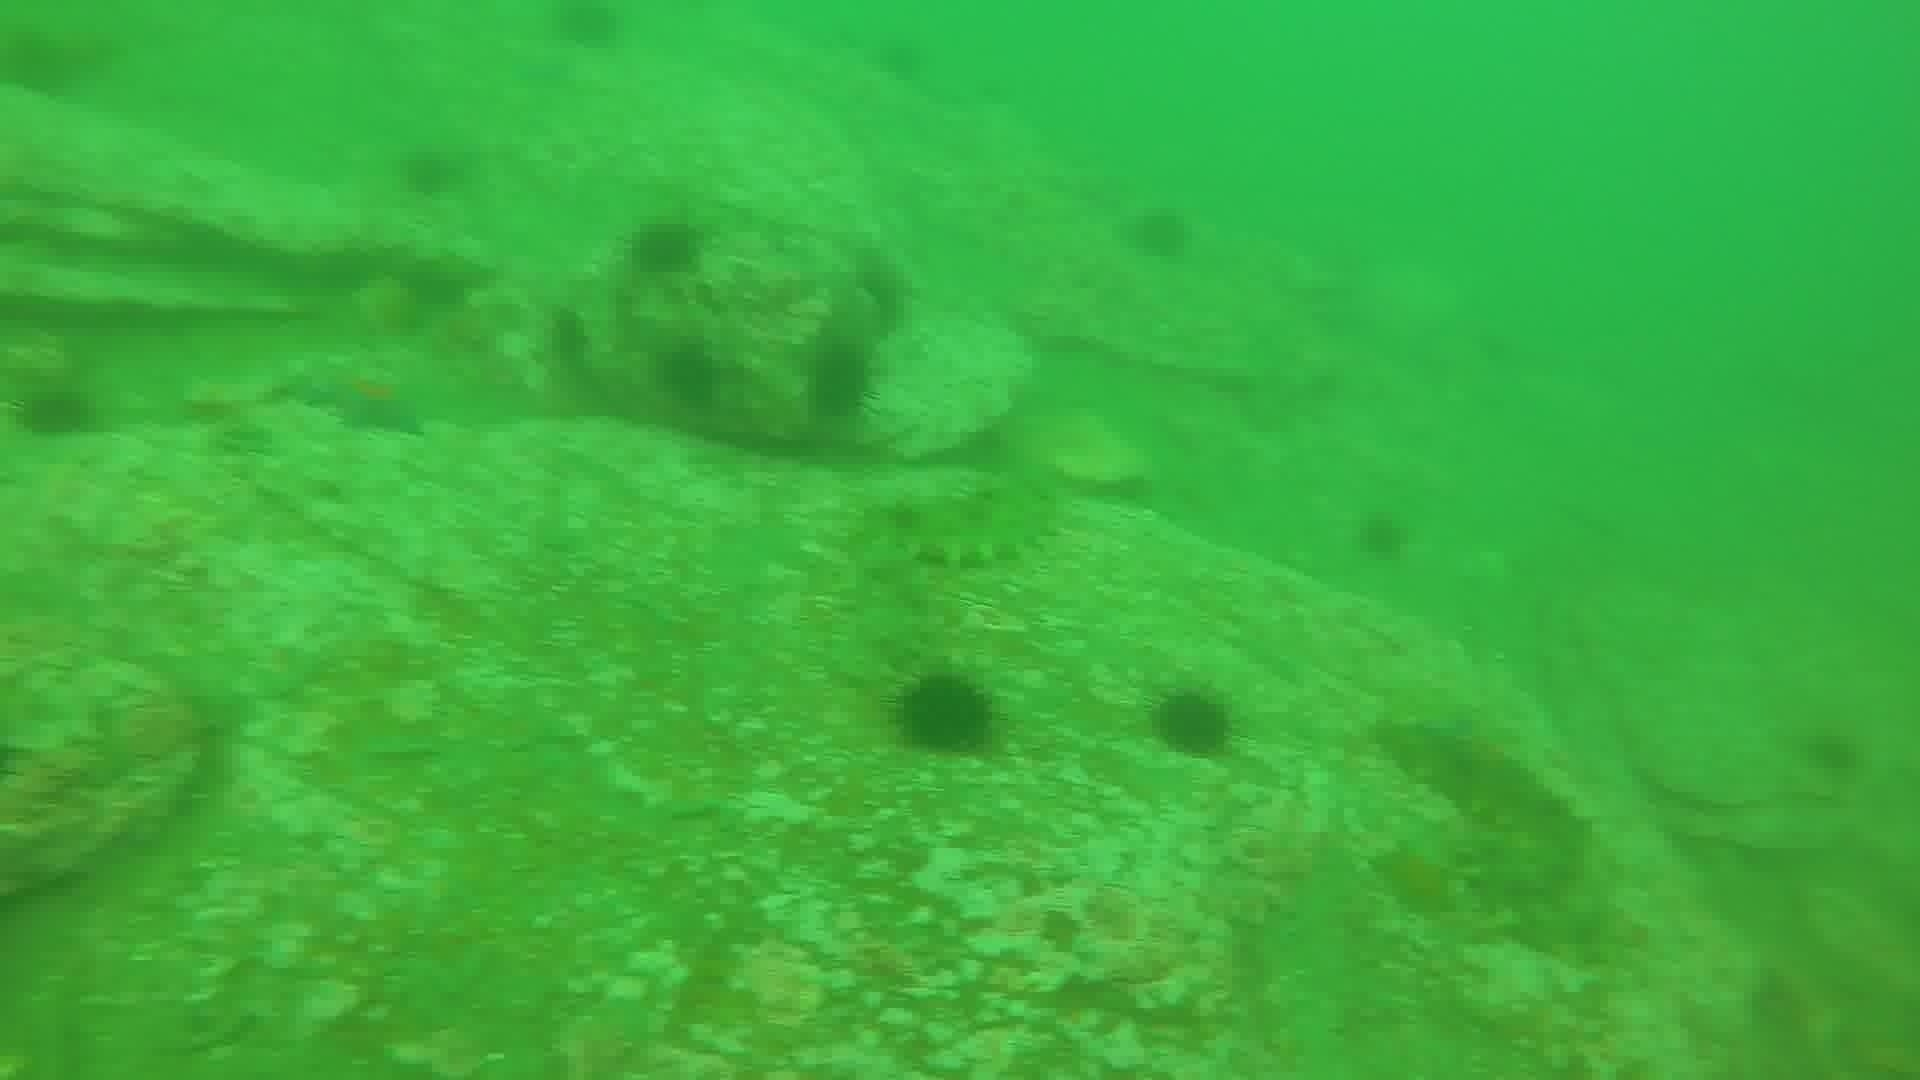echinus: (887, 666, 1004, 762), (1146, 683, 1240, 764), (799, 335, 882, 425), (845, 247, 916, 340), (12, 377, 100, 446), (624, 214, 709, 282), (651, 338, 728, 414), (1122, 200, 1196, 265), (852, 33, 926, 98), (545, 1, 629, 55), (393, 141, 465, 203), (1797, 723, 1869, 783), (539, 303, 596, 371), (1350, 506, 1414, 564)
holothurian: (1371, 713, 1596, 913), (852, 475, 1071, 574), (823, 516, 932, 694)
starfish: (284, 357, 433, 442), (1367, 837, 1466, 923)
